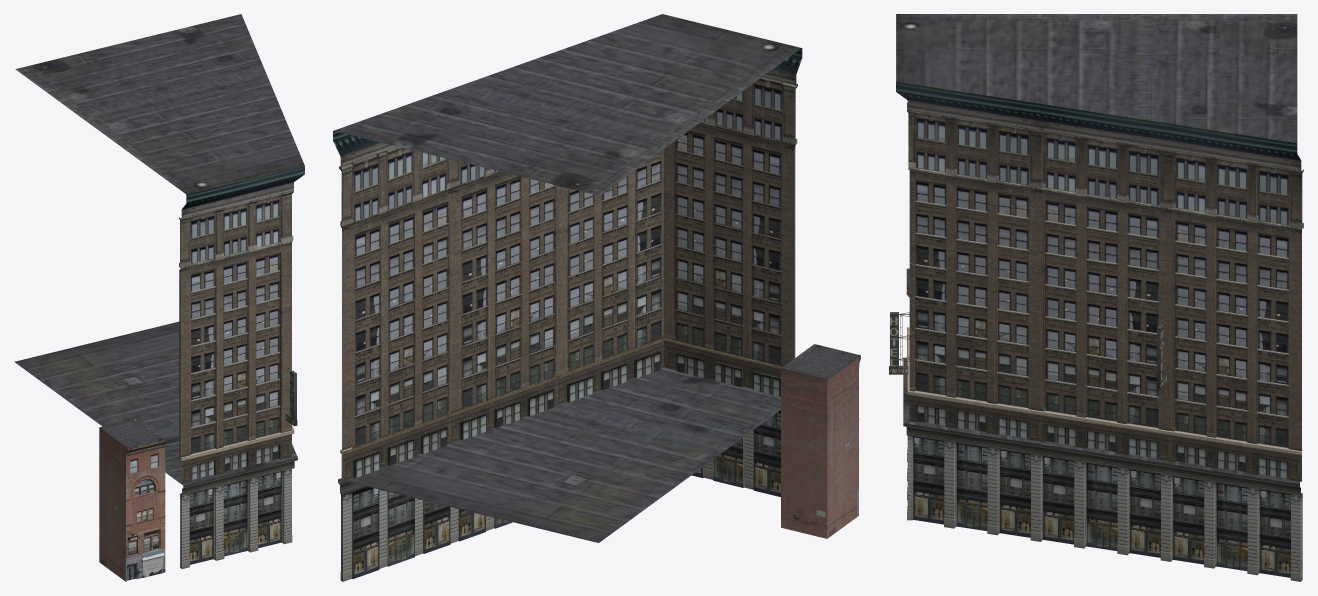
The model's file is new_york_buildings.glb.
3 renders of one model, left to right at view 1: azimuth 30°, elevation 25°; view 2: azimuth 150°, elevation 25°; view 3: azimuth 270°, elevation 25°, orthographic. The views are drawn at different scales.
Visible parts, largest first — view 1: main_2, main.001_3; view 2: main_2, main.001_3; view 3: main_2.
Boxes of the visible parts, x1=… form: main_2: x1=14, y1=14, x2=304, y2=568; main.001_3: x1=99, y1=418, x2=166, y2=581; main_2: x1=333, y1=14, x2=802, y2=581; main.001_3: x1=781, y1=344, x2=860, y2=538; main_2: x1=889, y1=14, x2=1303, y2=581.
Size of what is drawn, in the model's own units: 183 by 235 by 200.
1 material, 1 textured.
